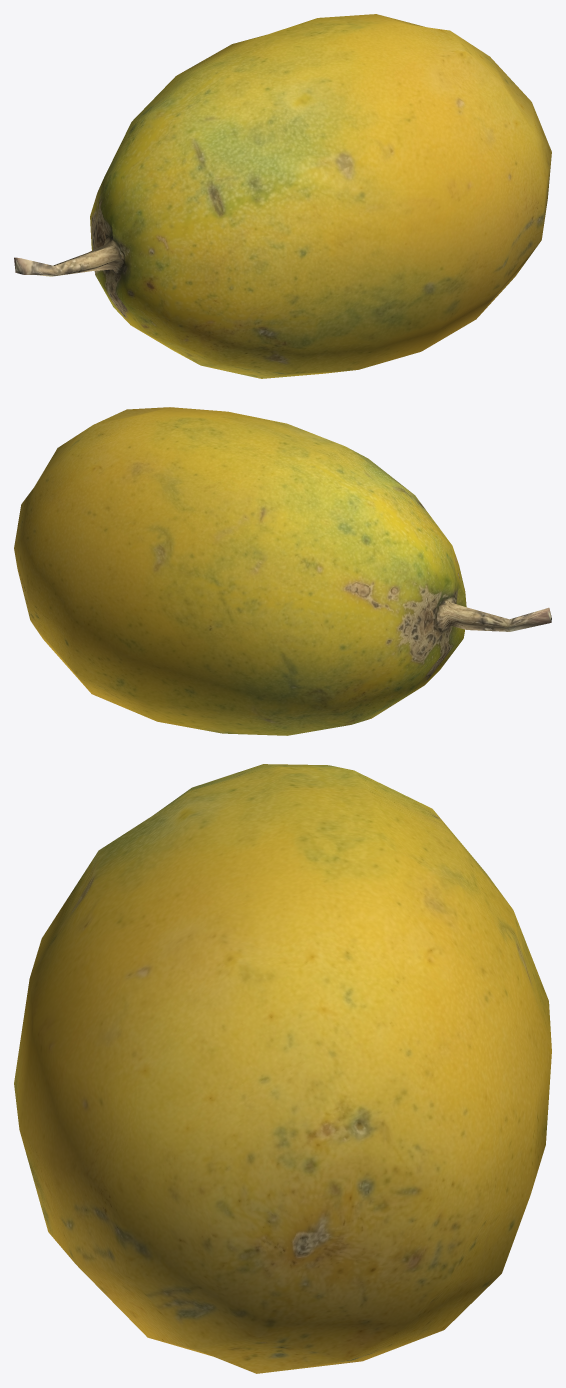
File: A29_Mango_low.fbx
3 renders of one model, top to bottom at view 1: azimuth 30°, elevation 25°; view 2: azimuth 150°, elevation 25°; view 3: azimuth 270°, elevation 25°, orthographic. The views are drawn at different scales.
Visible parts, largest first — view 1: A29_Mango_low; view 2: A29_Mango_low; view 3: A29_Mango_low.
Part boxes in pixels (<box>): A29_Mango_low: <box>14,14,551,378</box>; A29_Mango_low: <box>14,407,551,735</box>; A29_Mango_low: <box>14,764,551,1373</box>.
Bounding box in the file's own units: 17.09 × 9.43 × 9.52.
Materials: 1 (1 with a texture image).
